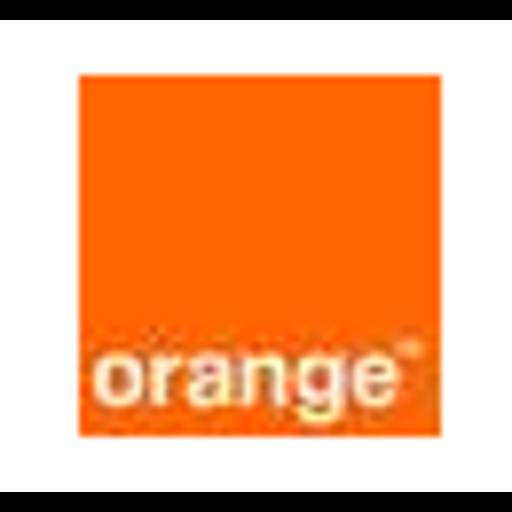Orange: (0, 20, 512, 492)
